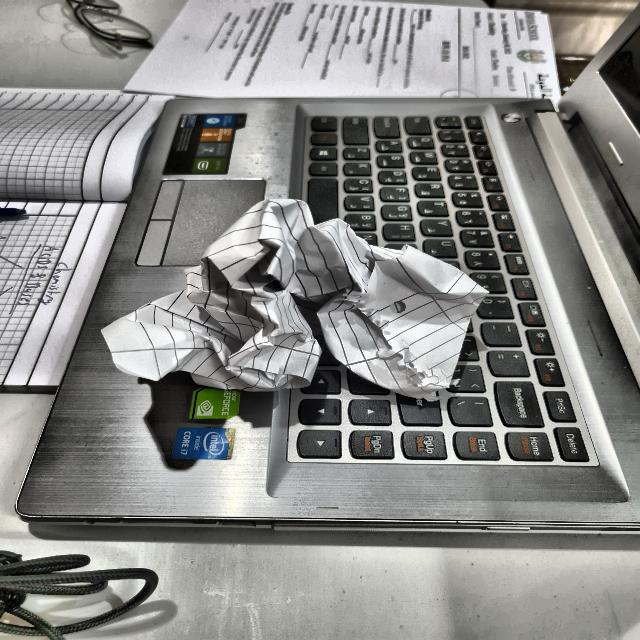Paper: (102, 200, 481, 388)
